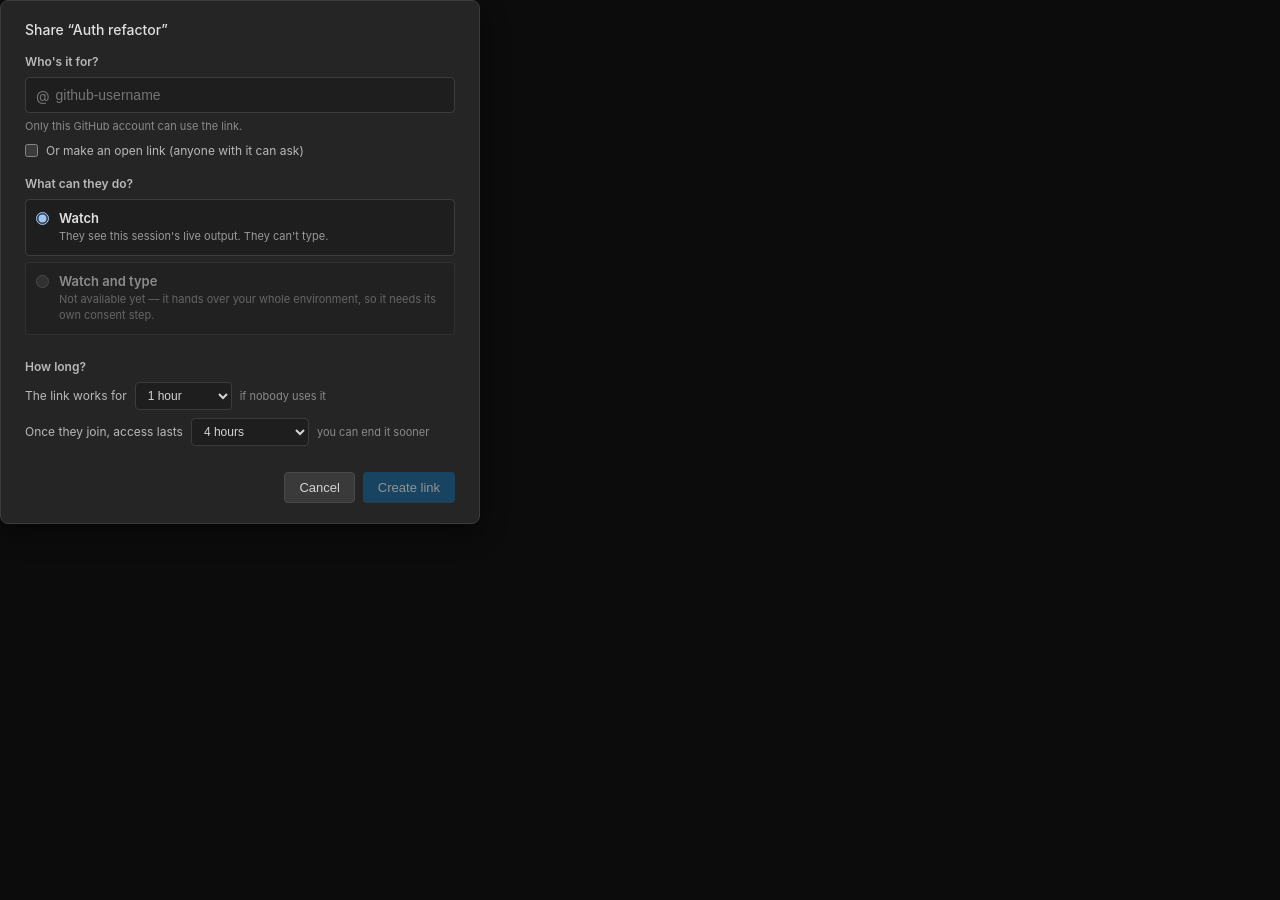
Test: rendering › offers access that lasts until the owner revokes it
This screenshot has width=1280, height=900.
Type "dana-k" into the field with placeholder "github-username" at [254, 95], box left=54, top=78, right=454, bottom=112
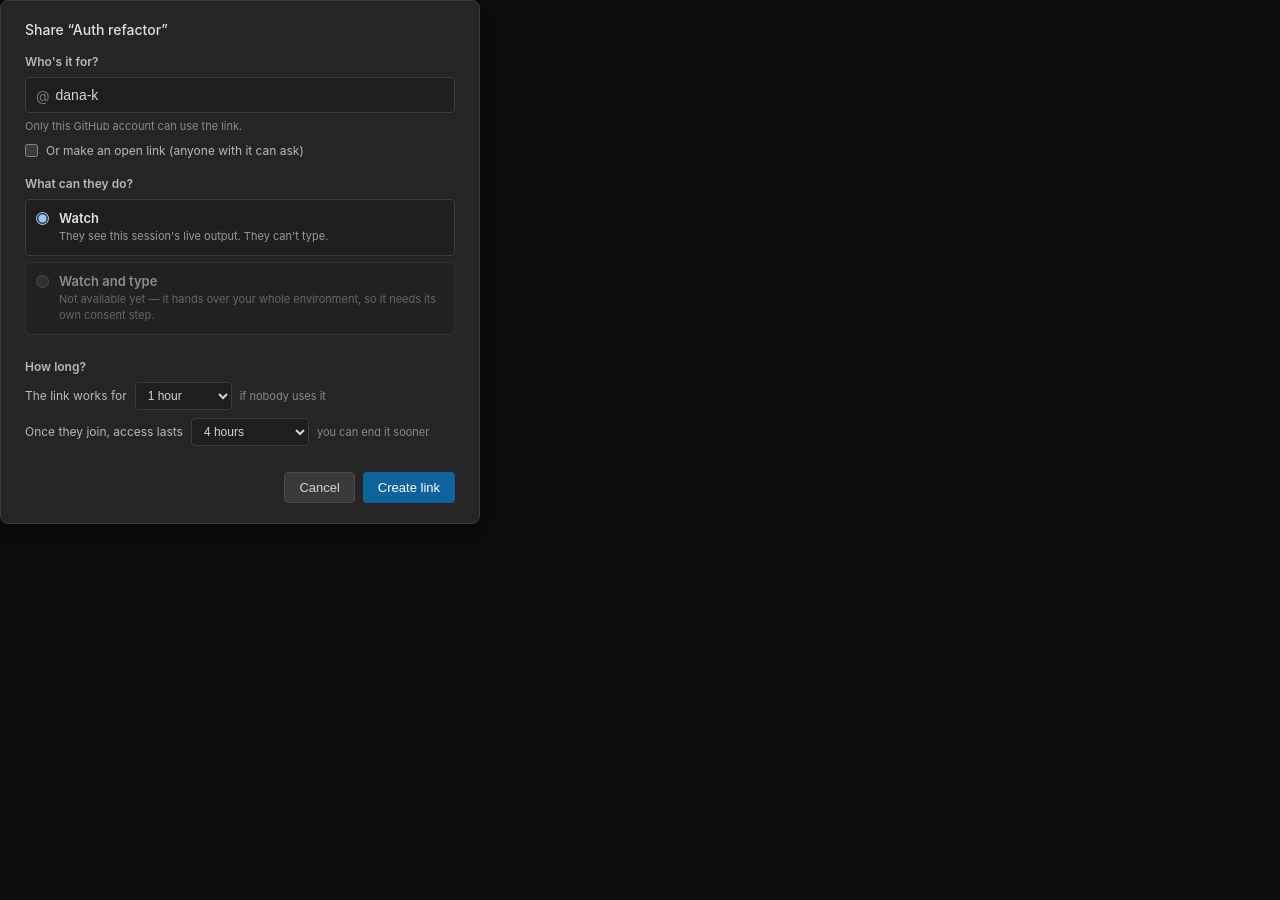
Select "Until I revoke it" in the dropdown with id "share-grant-ttl" at [250, 432], box left=191, top=418, right=309, bottom=446
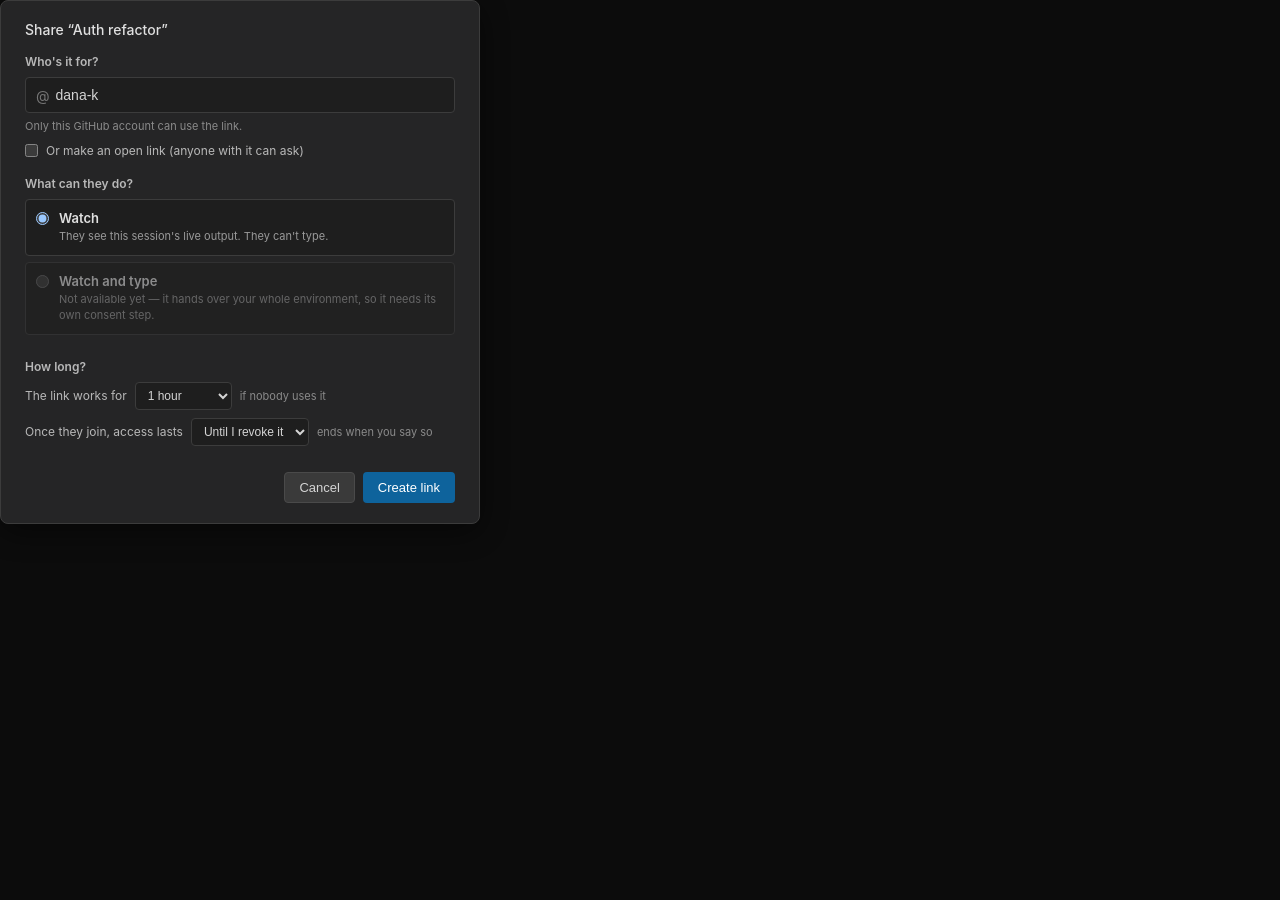
Click the button "Create link" at [409, 487], box left=363, top=472, right=455, bottom=503
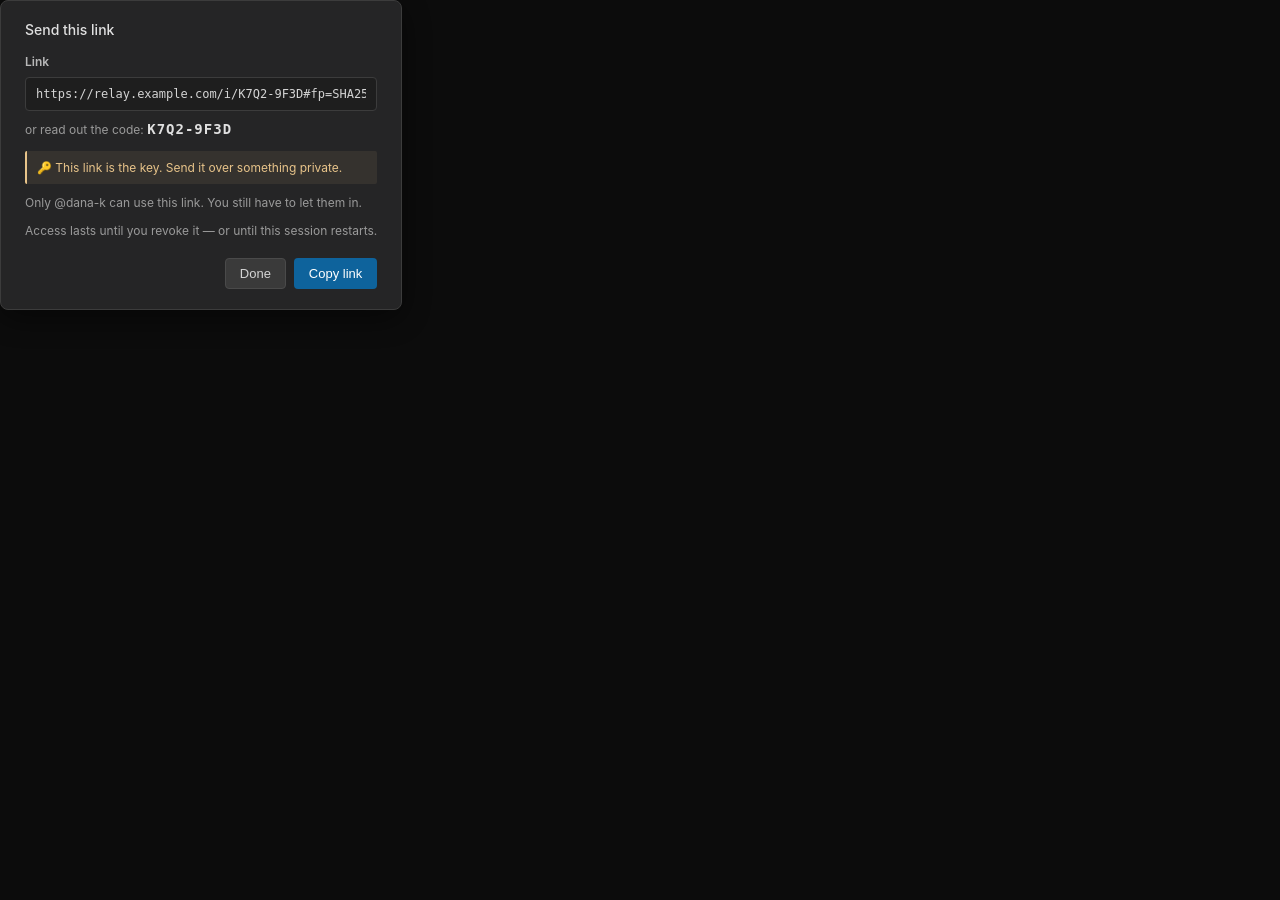
Expected: the text "until you revoke it" is shown, left=25, top=223, right=377, bottom=238
